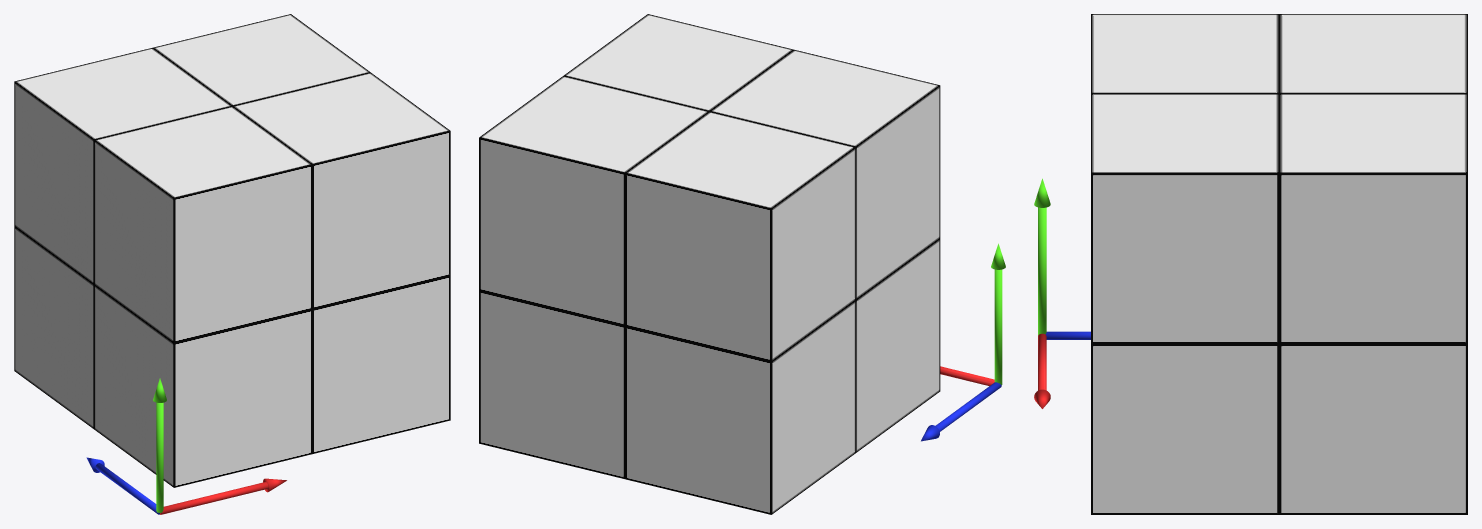
3 renders of one model, left to right at view 1: azimuth 30°, elevation 25°; view 2: azimuth 150°, elevation 25°; view 3: azimuth 270°, elevation 25°, orthographic. The views are drawn at different scales.
Visible parts, largest first — view 1: Cube, Cylinder.002, Cylinder.001, Cylinder; view 2: Cube, Cylinder.002, Cylinder; view 3: Cube, Cylinder.002, Cylinder.001.
Boxes of the visible parts, <box> form: Cube: <box>14,14,450,487</box>; Cylinder.002: <box>156,402,163,512</box>; Cylinder.001: <box>160,482,268,514</box>; Cylinder: <box>95,463,159,514</box>; Cube: <box>479,14,940,514</box>; Cylinder.002: <box>994,269,1002,384</box>; Cylinder: <box>935,382,1001,431</box>; Cube: <box>1091,14,1467,514</box>; Cylinder.002: <box>1038,207,1046,335</box>; Cylinder.001: <box>1038,333,1046,390</box>.
Size of the model in its own units: 2.29 by 2.04 by 2.3.
Materials: 2 (1 with a texture image).
